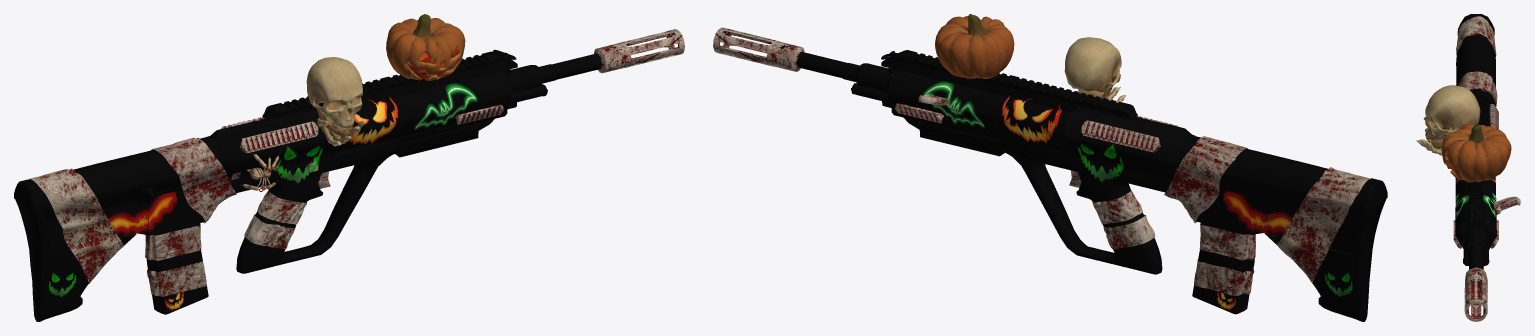
The model's file is WEAPON_MILITARYRIFLE_HALLOWEEN.glb.
The picture shows the model from 3 angles, left to right: view 1: azimuth 30°, elevation 25°; view 2: azimuth 150°, elevation 25°; view 3: azimuth 270°, elevation 25°; orthographic projection. The views are drawn at different scales.
Parts seen in each view (by area): view 1: AAPCamo.005; view 2: AAPCamo.005; view 3: AAPCamo.005.
Part boxes in pixels (x1,y1,x2,y2): AAPCamo.005: (14,14,684,321); AAPCamo.005: (713,14,1387,321); AAPCamo.005: (1416,14,1520,321).
Size of the model in its own units: 0.8423 by 0.2839 by 0.131.
10 materials, 10 textured.
